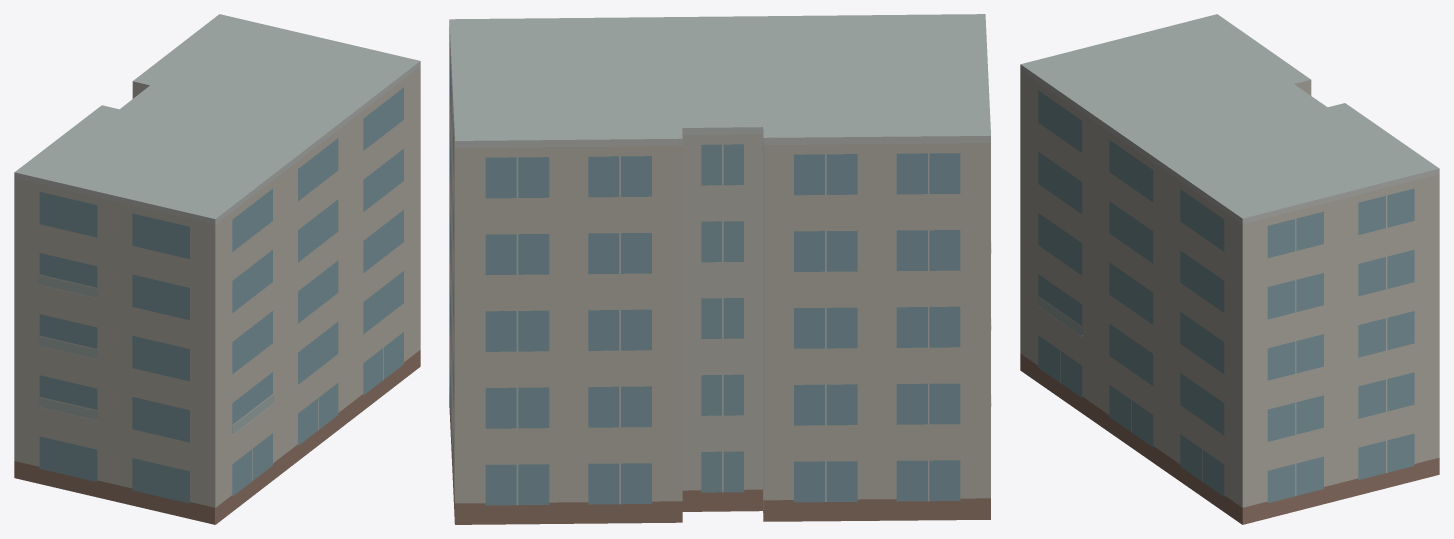
Rendered from survey-upis-32607211.glb.
3 views of the same model, side by side, from view 1: azimuth 30°, elevation 25°; view 2: azimuth 150°, elevation 25°; view 3: azimuth 270°, elevation 25° (orthographic). The views are drawn at different scales.
Visible parts, largest first — view 1: survey-upis-32607211.tmp; view 2: survey-upis-32607211.tmp; view 3: survey-upis-32607211.tmp.
Part boxes in pixels (bbox=[...]): survey-upis-32607211.tmp: bbox=[14, 14, 420, 524]; survey-upis-32607211.tmp: bbox=[449, 14, 991, 524]; survey-upis-32607211.tmp: bbox=[1020, 14, 1439, 524].
Bounding box in the file's own units: 19.07 × 13.3 × 16.51.
